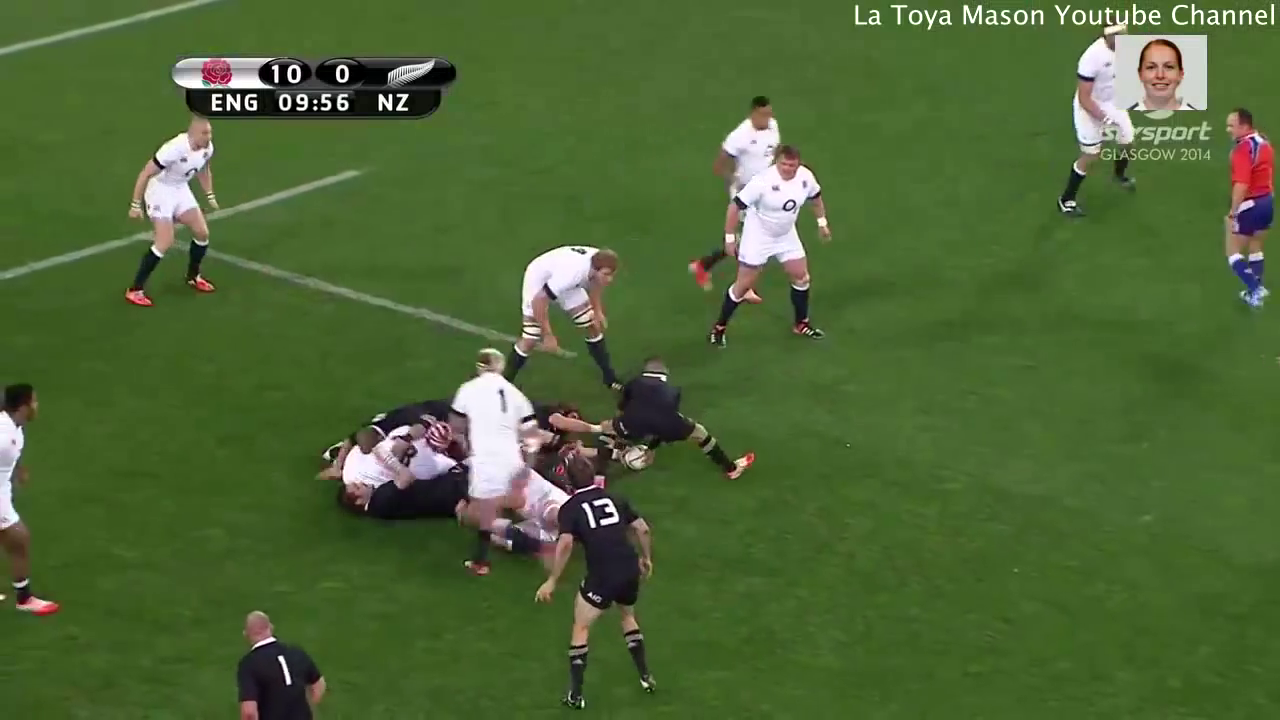ball: (611, 434, 663, 476)
player: (533, 453, 679, 720), (605, 352, 790, 502), (708, 139, 833, 349), (119, 114, 237, 309), (493, 233, 632, 394), (1, 373, 83, 628), (446, 341, 534, 569), (1216, 99, 1280, 315), (220, 597, 328, 720), (699, 83, 793, 193)
ruck: (301, 367, 598, 517)
